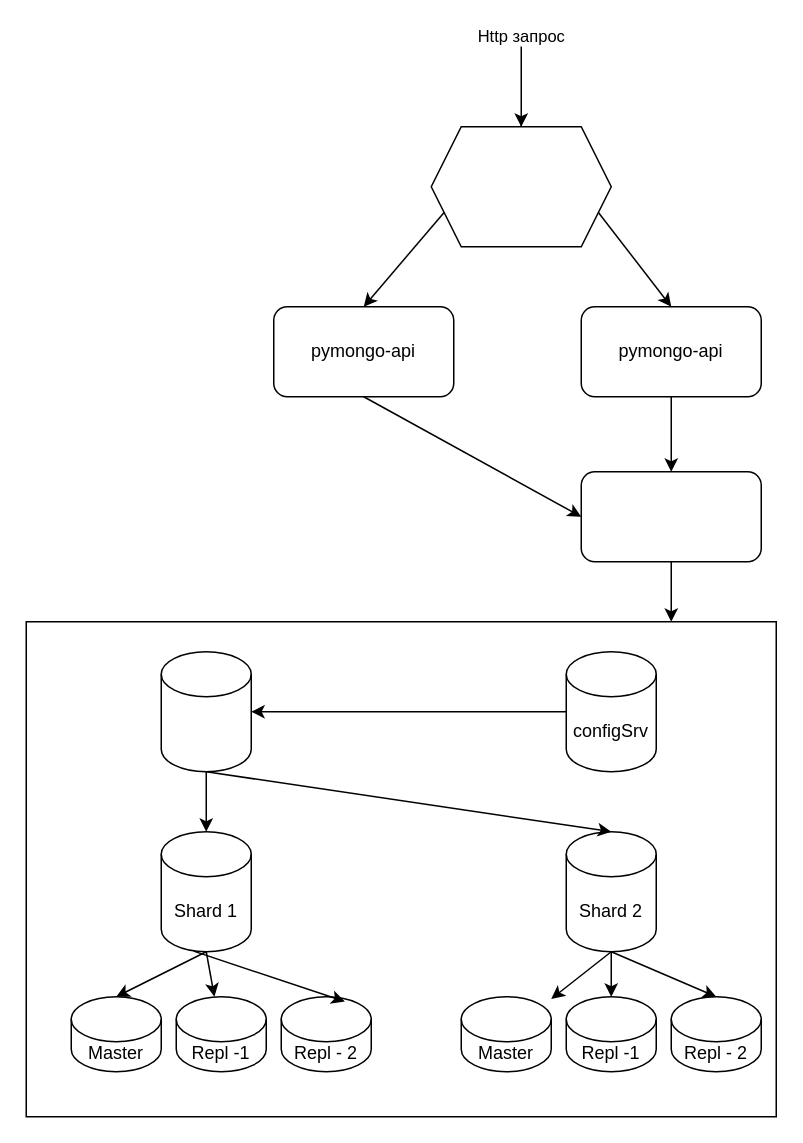
Image size: 803x1143. Some labels were removed from this diagram. Here are the shapes that lost their labels. From the top down, the box of each, then its label:
(430, 125, 611, 247): APISIX api gateway
(580, 470, 761, 562): Redis
(160, 650, 251, 772): Router
(25, 620, 776, 1117): Кластер MongoDb
